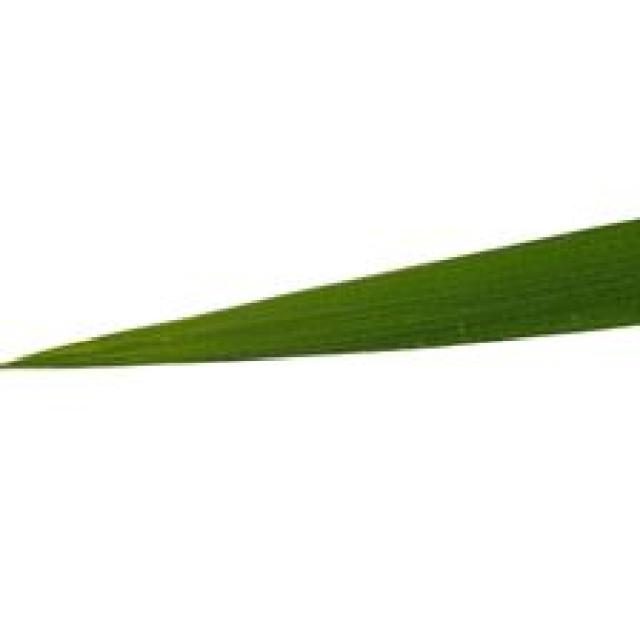Rice___Healthy_Rice_Plant: (2, 218, 637, 367)
